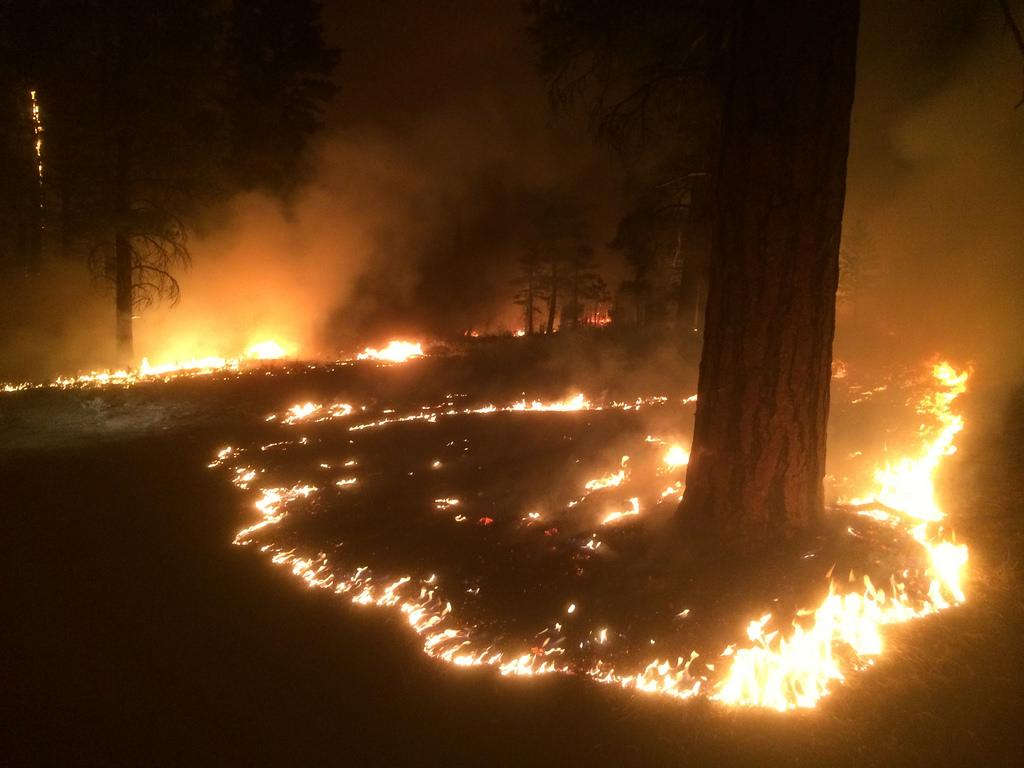fire: (744, 652, 832, 702), (886, 458, 936, 512), (926, 546, 970, 594), (246, 338, 302, 374), (164, 340, 220, 362), (850, 602, 876, 634)
